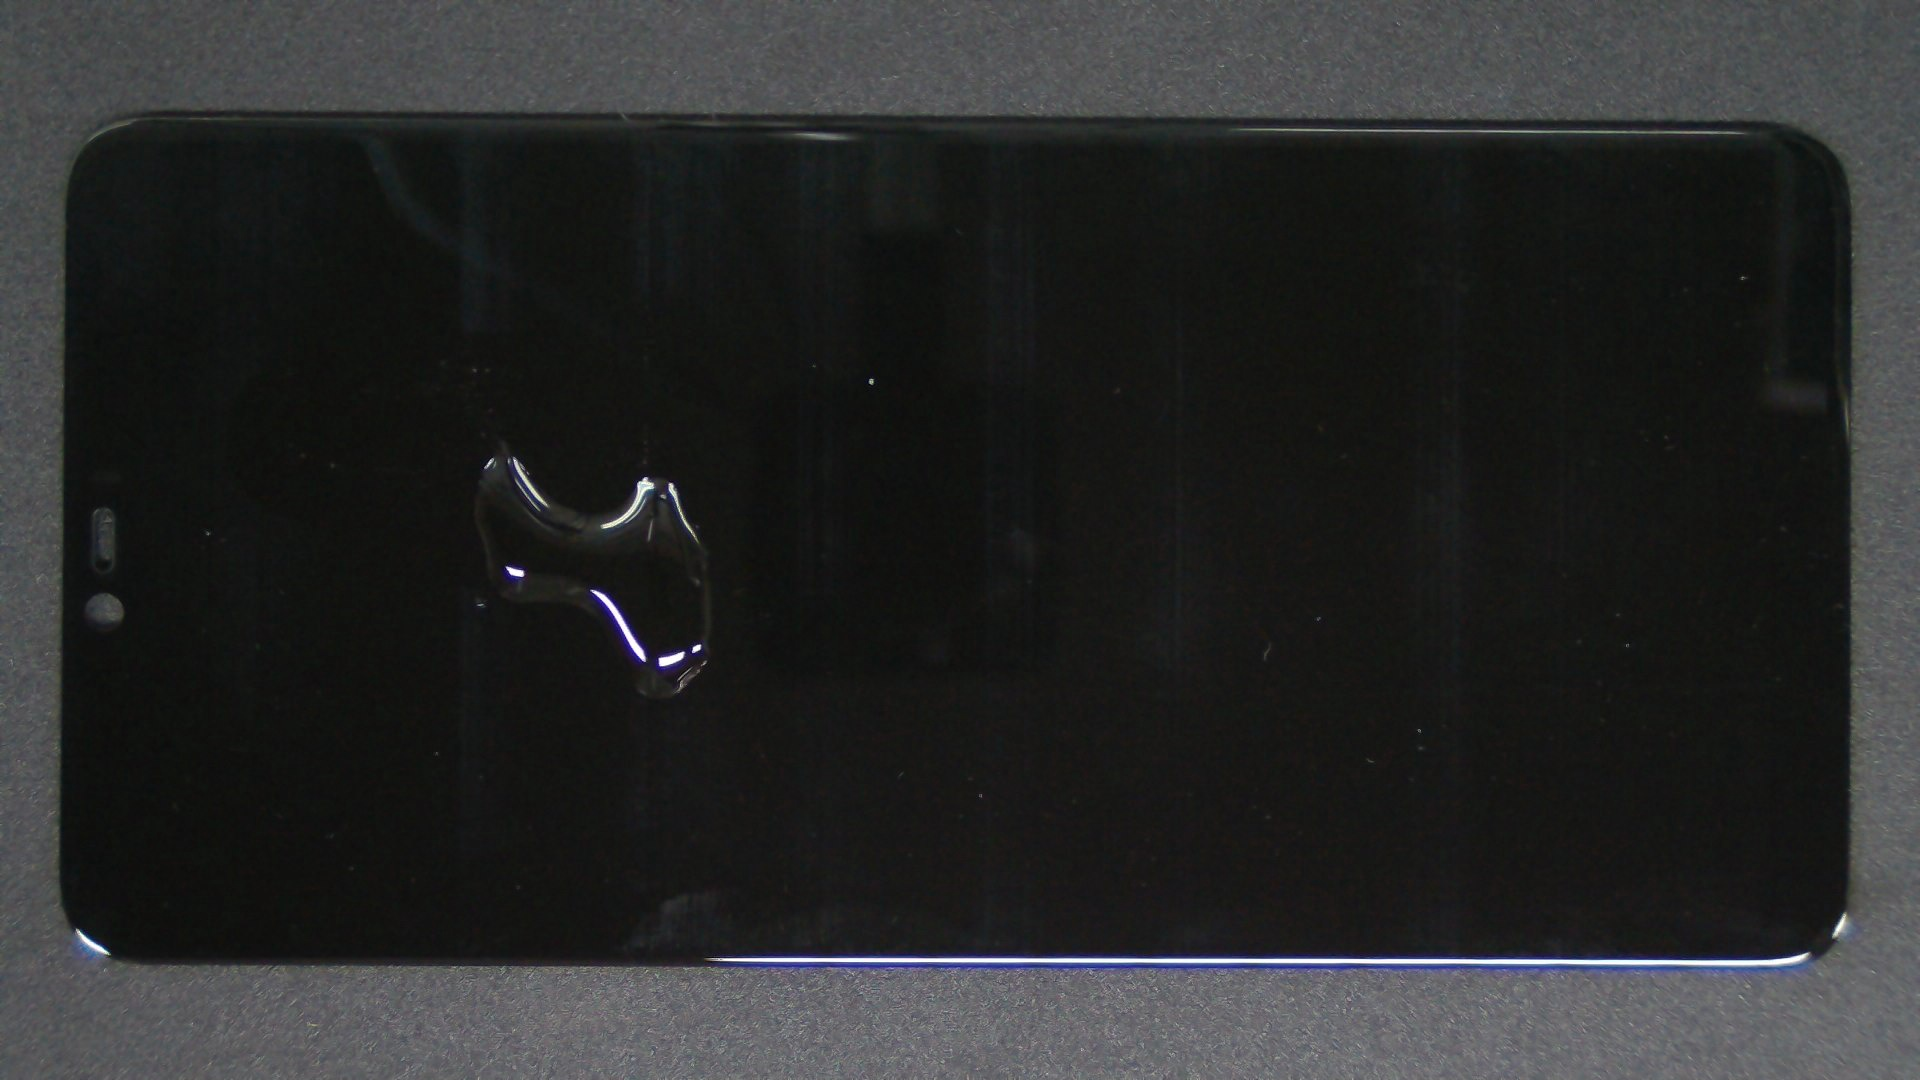oil: (434, 187, 1302, 568), (237, 297, 712, 899), (252, 219, 754, 661)
